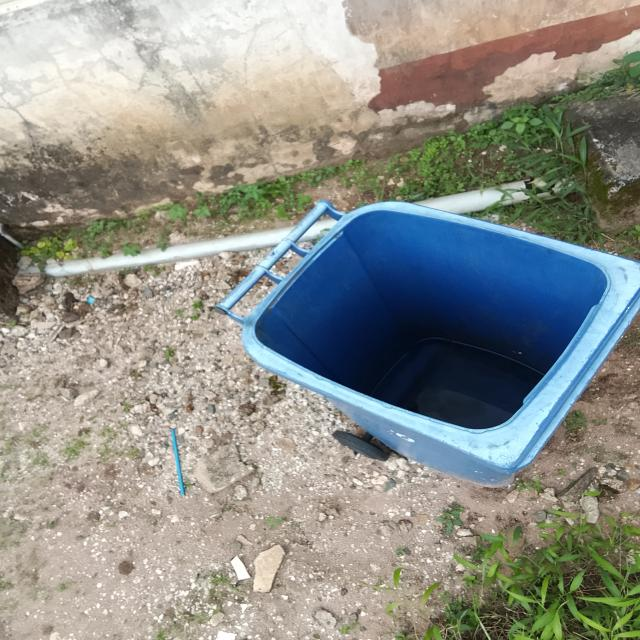empty: (251, 205, 631, 444)
